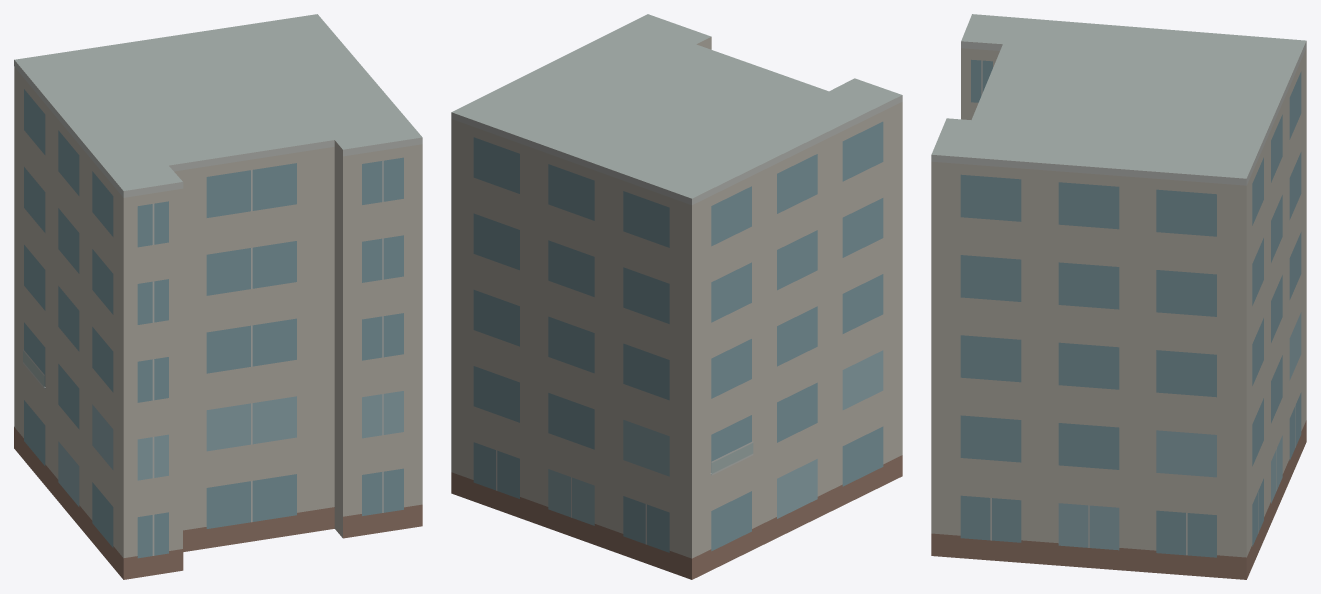
The model's file is survey-upis-32646393.glb.
3 renders of one model, left to right at view 1: azimuth 30°, elevation 25°; view 2: azimuth 150°, elevation 25°; view 3: azimuth 270°, elevation 25°, orthographic. The views are drawn at different scales.
Parts seen in each view (by area): view 1: survey-upis-32646393.tmp; view 2: survey-upis-32646393.tmp; view 3: survey-upis-32646393.tmp.
Boxes of the visible parts, x1,y1,x2,y2 form: survey-upis-32646393.tmp: (14, 14, 422, 579); survey-upis-32646393.tmp: (451, 14, 902, 579); survey-upis-32646393.tmp: (931, 14, 1306, 579).
Bounding box in the file's own units: 12.38 × 14.05 × 11.92.
